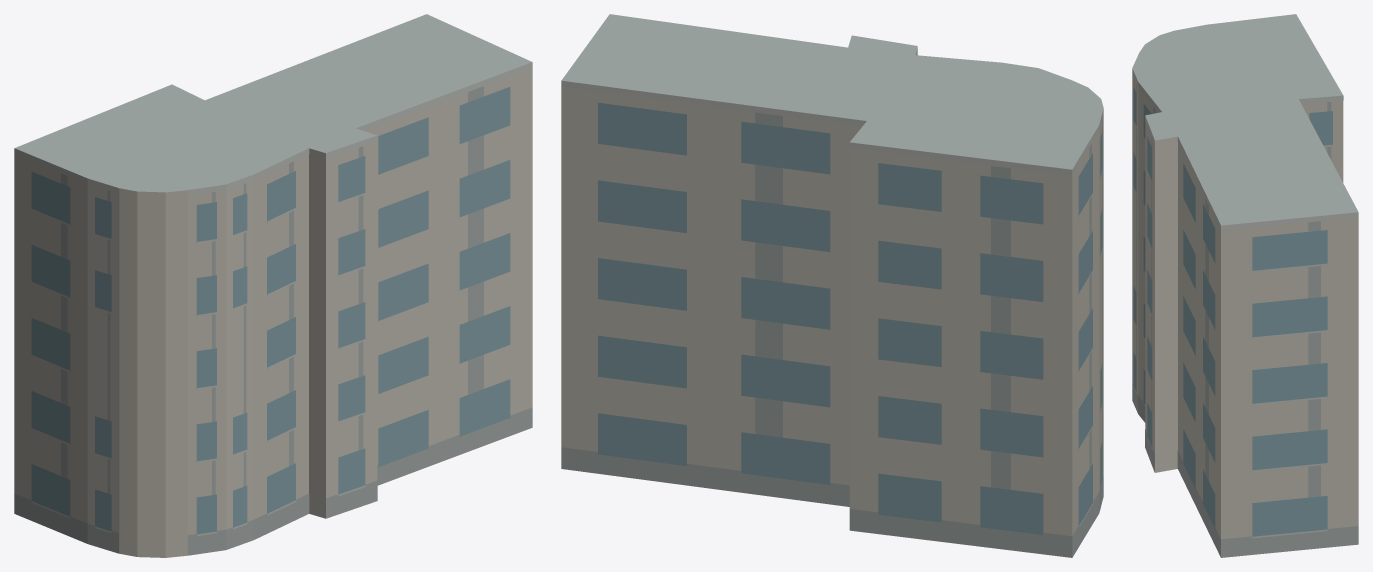
The model's file is survey-upis-32512999.glb.
3 renders of one model, left to right at view 1: azimuth 30°, elevation 25°; view 2: azimuth 150°, elevation 25°; view 3: azimuth 270°, elevation 25°, orthographic. The views are drawn at different scales.
Parts seen in each view (by area): view 1: survey-upis-32512999.tmp; view 2: survey-upis-32512999.tmp; view 3: survey-upis-32512999.tmp.
Part boxes in pixels (x1=…): survey-upis-32512999.tmp: x1=14, y1=14, x2=532, y2=557; survey-upis-32512999.tmp: x1=561, y1=14, x2=1103, y2=557; survey-upis-32512999.tmp: x1=1132, y1=14, x2=1358, y2=557.
Bounding box in the file's own units: 20.83 × 15.25 × 9.43.
